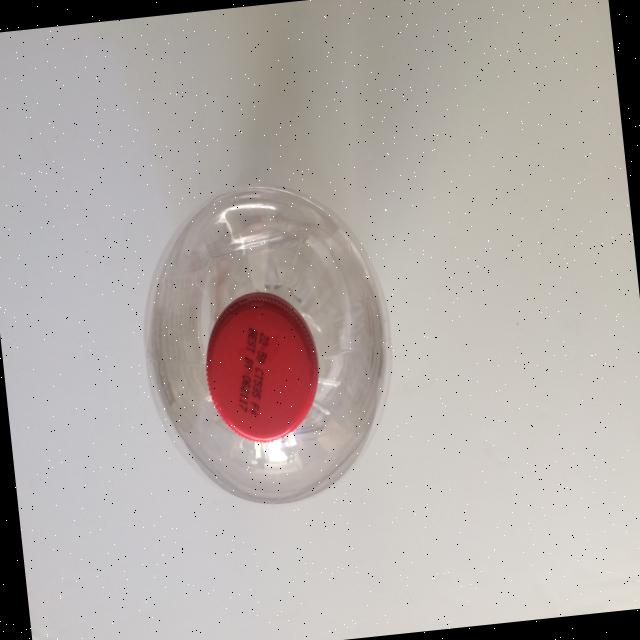plastic: (127, 171, 406, 516)
